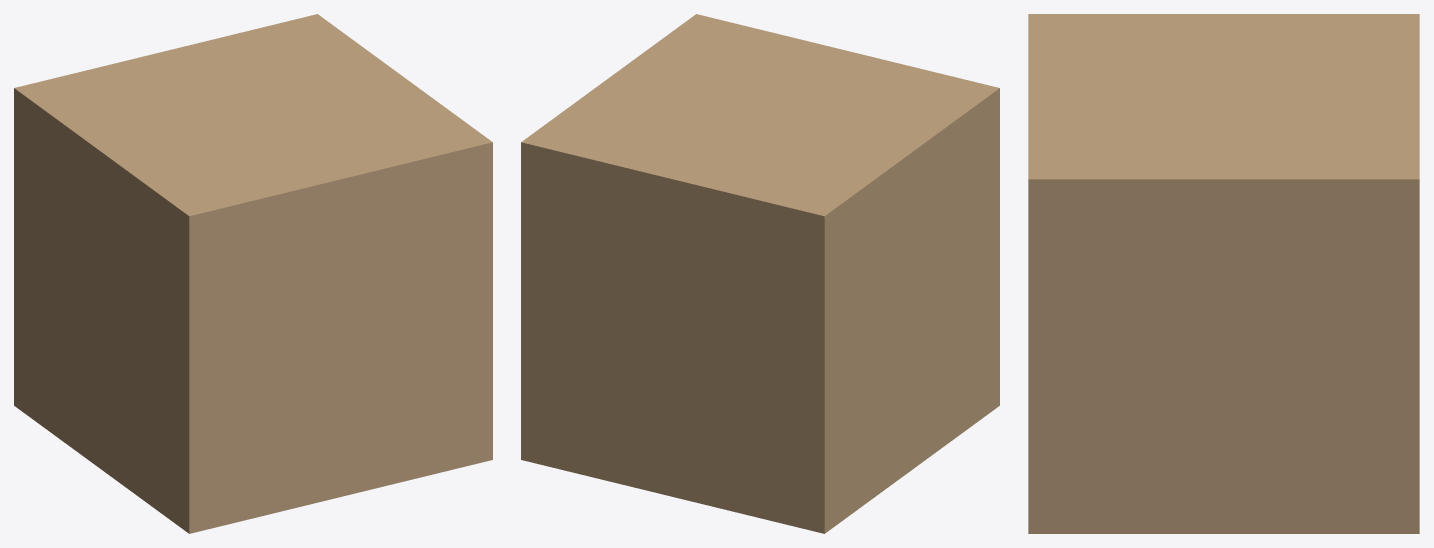
The model's file is 38_workbench.glb.
The picture shows the model from 3 angles, left to right: view 1: azimuth 30°, elevation 25°; view 2: azimuth 150°, elevation 25°; view 3: azimuth 270°, elevation 25°; orthographic projection. The views are drawn at different scales.
Parts seen in each view (by area): view 1: Core, Body; view 2: Core; view 3: Core, Body.
Part boxes in pixels (x1=…): Core: x1=14, y1=14, x2=492, y2=533; Body: x1=15, y1=128, x2=111, y2=435; Core: x1=521, y1=14, x2=999, y2=533; Core: x1=1028, y1=14, x2=1419, y2=533; Body: x1=1202, y1=223, x2=1417, y2=489.
Size of the model in its own units: 1 by 1 by 1.
